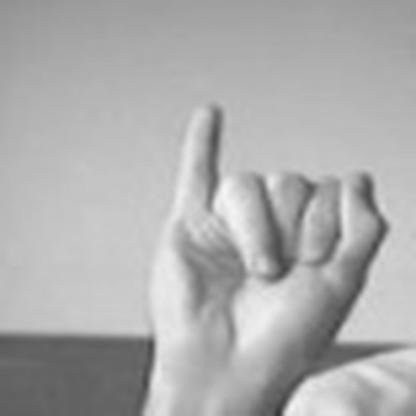i: (144, 95, 396, 347)
